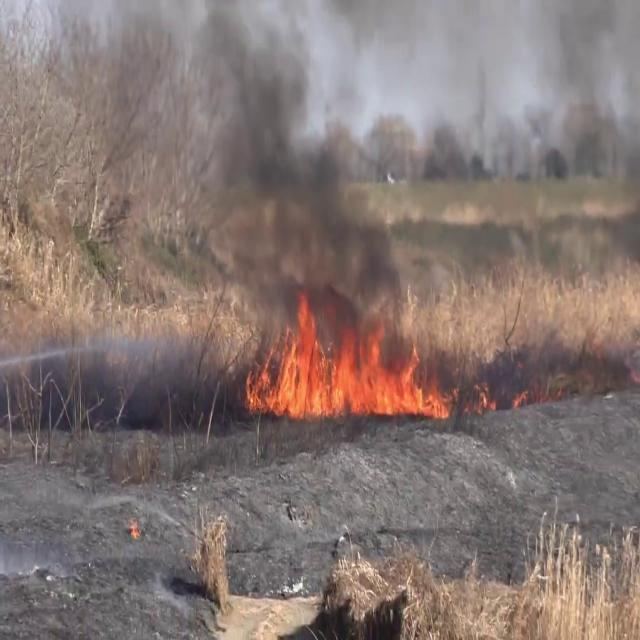Fire: (245, 291, 452, 425)
Smoke: (160, 0, 444, 315)
